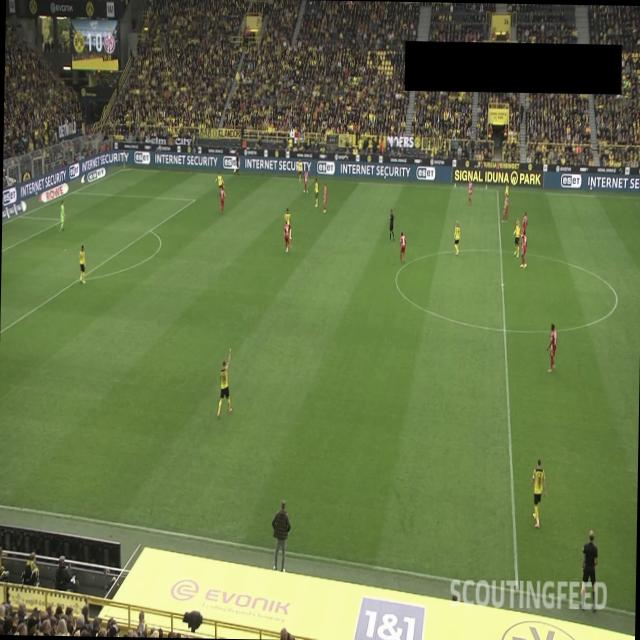goalkeeper: (59, 200, 67, 232)
player: (530, 456, 547, 528), (216, 347, 233, 418), (546, 322, 556, 372), (282, 213, 292, 252), (512, 218, 521, 257), (78, 244, 86, 284), (452, 220, 460, 256), (520, 230, 527, 268), (398, 231, 406, 263), (283, 206, 291, 234), (214, 170, 224, 190), (321, 182, 327, 213), (502, 192, 508, 222), (312, 176, 318, 206), (218, 185, 224, 213), (303, 166, 309, 192), (520, 211, 526, 236), (296, 158, 302, 182), (468, 179, 472, 204)
referee: (580, 528, 598, 612), (388, 208, 394, 241), (233, 151, 239, 176)
